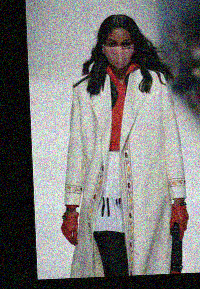with_mask: (100, 34, 136, 68)
